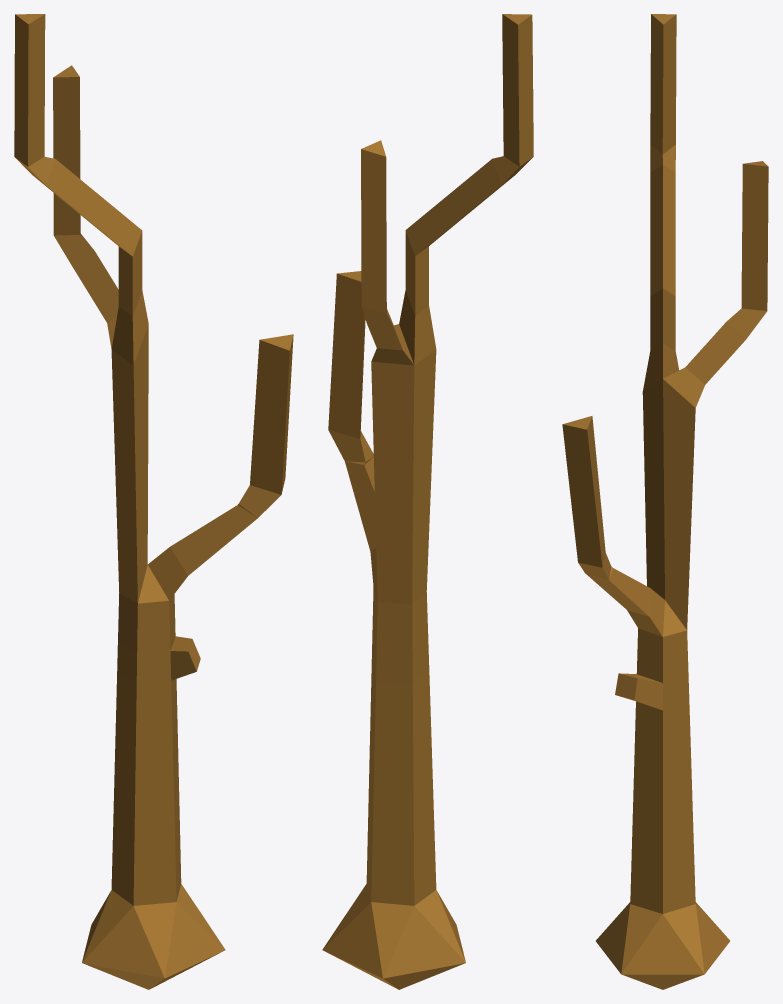
File: Tree_04.FBX
3 renders of one model, left to right at view 1: azimuth 30°, elevation 25°; view 2: azimuth 150°, elevation 25°; view 3: azimuth 270°, elevation 25°, orthographic. The views are drawn at different scales.
Visible parts, largest first — view 1: Object004; view 2: Object004; view 3: Object004.
Part boxes in pixels (x1,y1,x2,y2): Object004: (14, 14, 293, 989); Object004: (322, 14, 533, 989); Object004: (562, 14, 768, 989).
Size of the model in its own units: 8.26 by 34.13 by 6.94.
